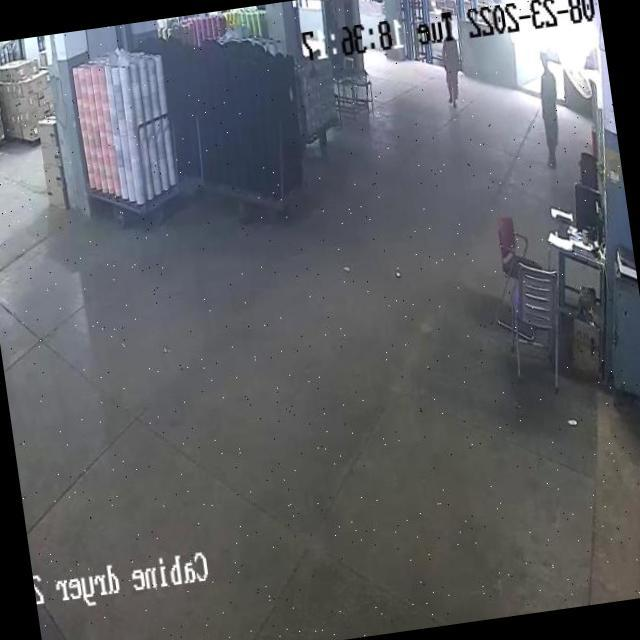person: (528, 55, 572, 180), (436, 29, 466, 116)
